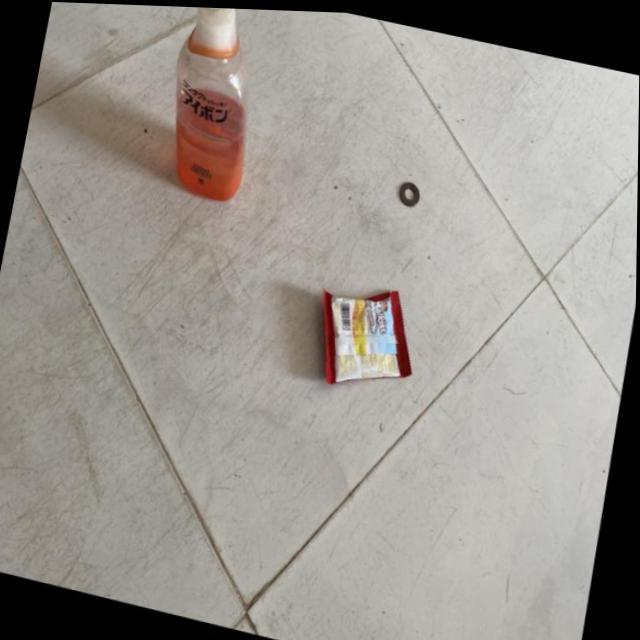clothes: (386, 166, 431, 224)
foam box: (122, 4, 280, 257)
leaf: (288, 268, 443, 403)
